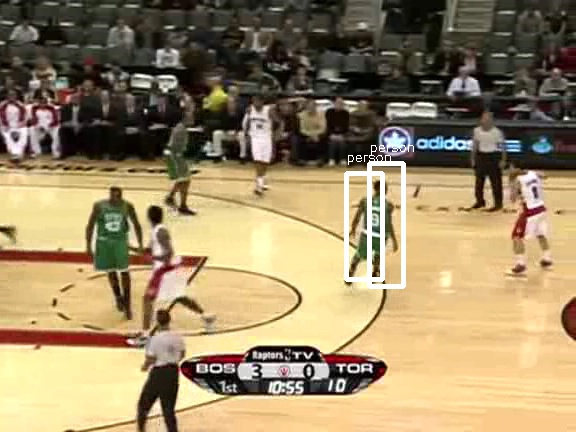person: (361, 189, 395, 270), (360, 189, 394, 270), (362, 189, 396, 270), (361, 188, 395, 269), (361, 190, 395, 271)
target_negative: (21, 111, 147, 378), (349, 316, 541, 422), (53, 357, 296, 428), (352, 300, 451, 368), (383, 163, 509, 166)
